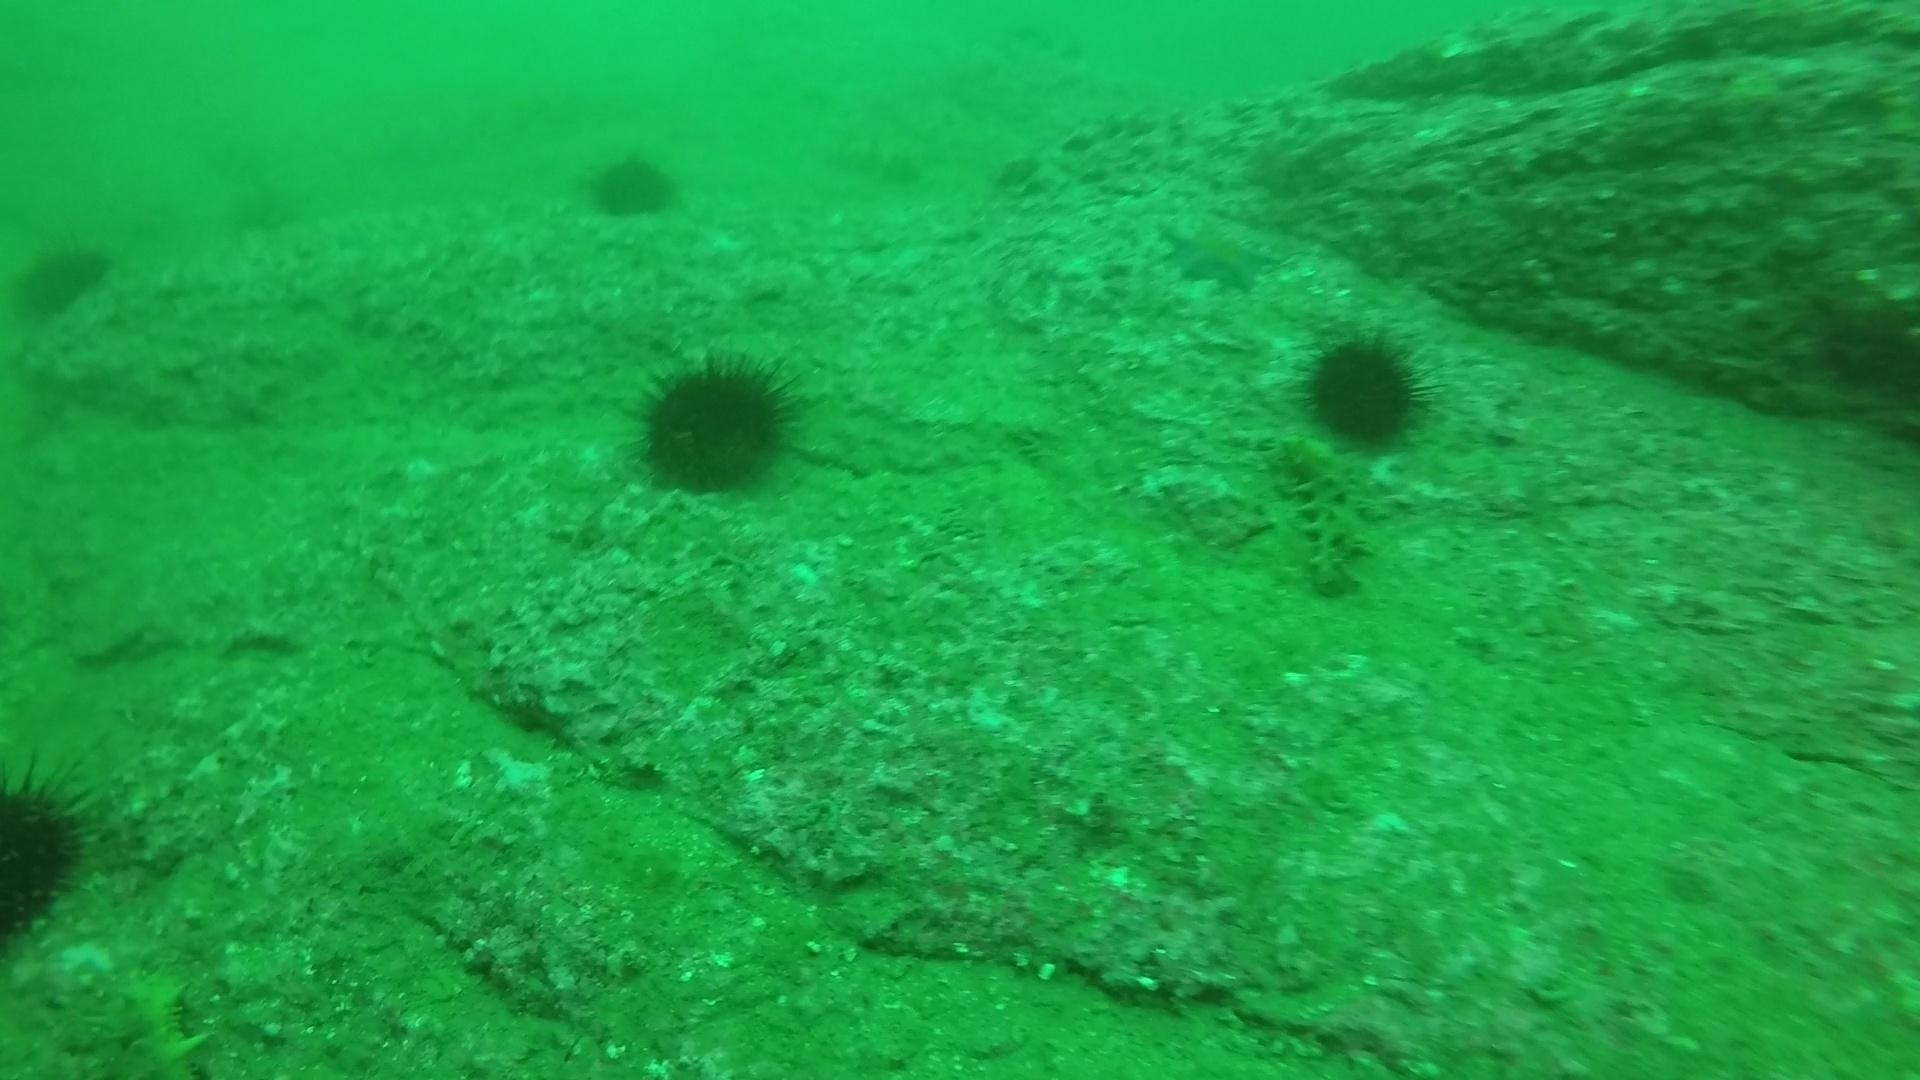echinus: (622, 345, 808, 502), (1, 750, 98, 953), (1294, 324, 1439, 458), (9, 233, 117, 327), (582, 144, 683, 224)
holothurian: (1270, 430, 1379, 600), (82, 952, 210, 1080)
starfish: (1156, 212, 1279, 297)
